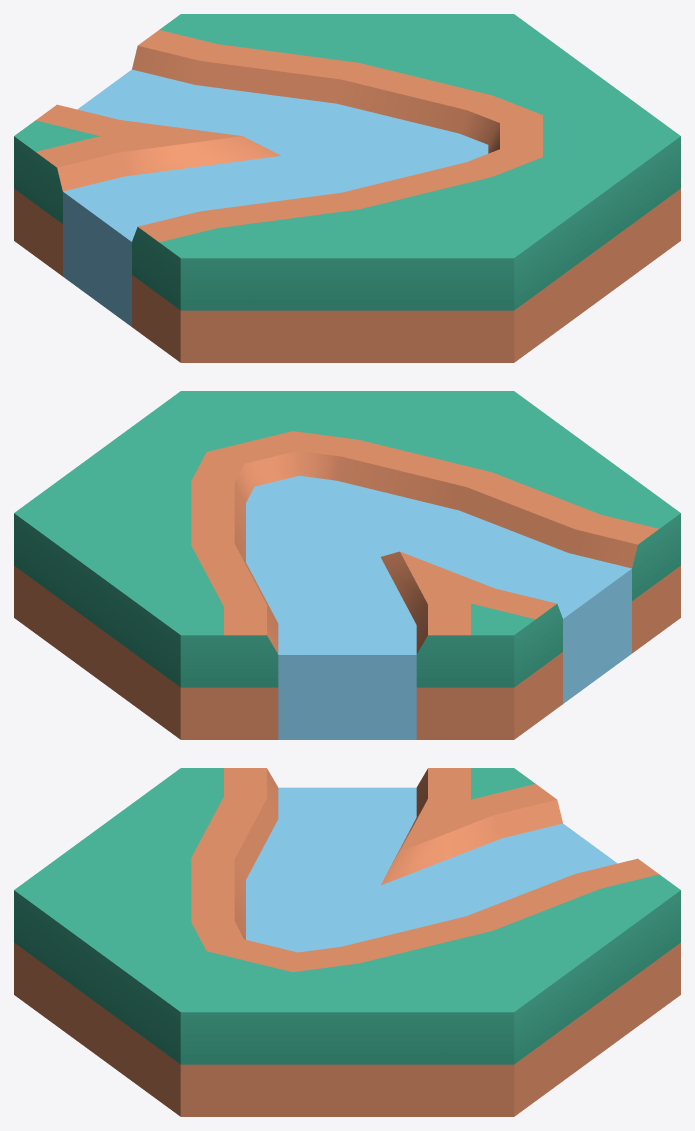
The model's file is river-corner-sharp.fbx.
3 views of the same model, one above another, from view 1: azimuth 30°, elevation 25°; view 2: azimuth 150°, elevation 25°; view 3: azimuth 270°, elevation 25° (orthographic).
Parts seen in each view (by area): view 1: river_corner_sharp; view 2: river_corner_sharp; view 3: river_corner_sharp.
Boxes of the visible parts, box(x1,y1,x2,y2) form: river_corner_sharp: box(14, 14, 680, 362); river_corner_sharp: box(14, 391, 680, 739); river_corner_sharp: box(14, 768, 680, 1116).
Size of the model in its own units: 100 by 20 by 115.
1 material, 1 textured.
